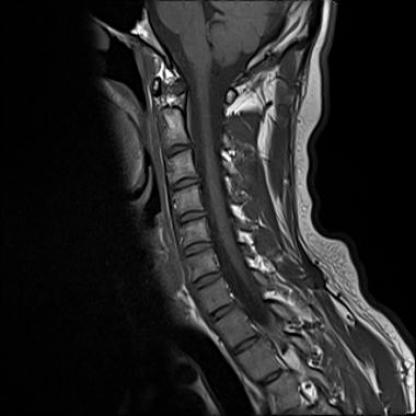Degenerative Disc Diseaserotation: (180, 240, 215, 257)
Disc Bulgerotation: (180, 240, 215, 257)
